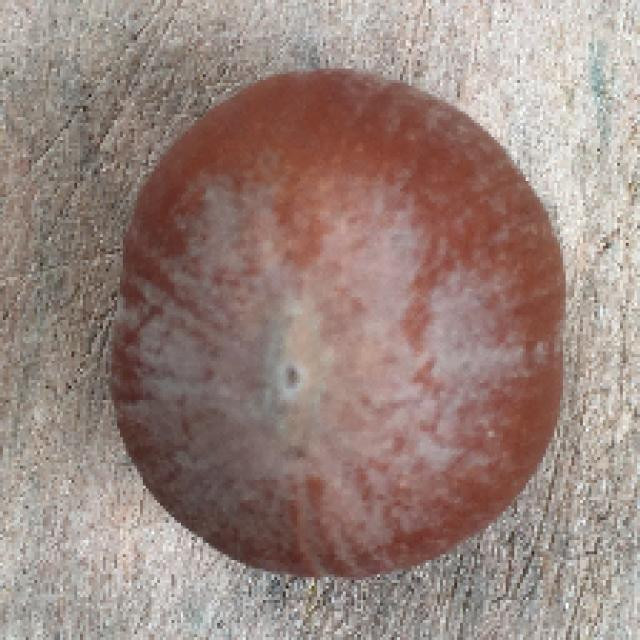qualityHazelnut: (108, 62, 570, 580)
